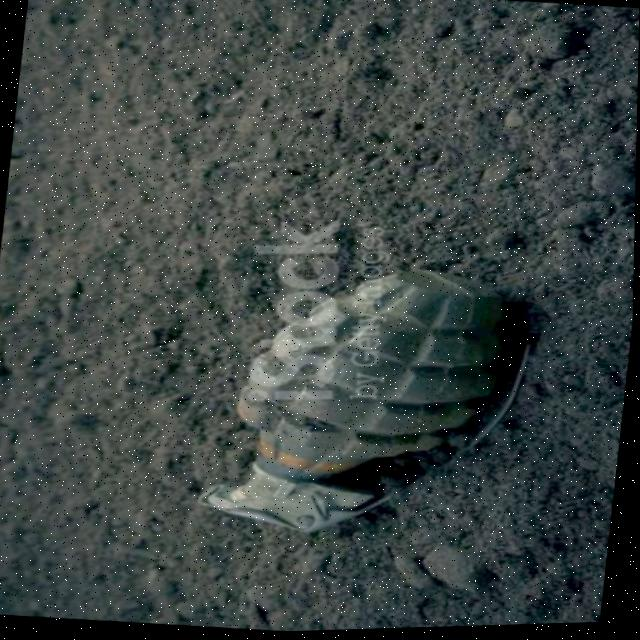grenade: (182, 234, 562, 566)
